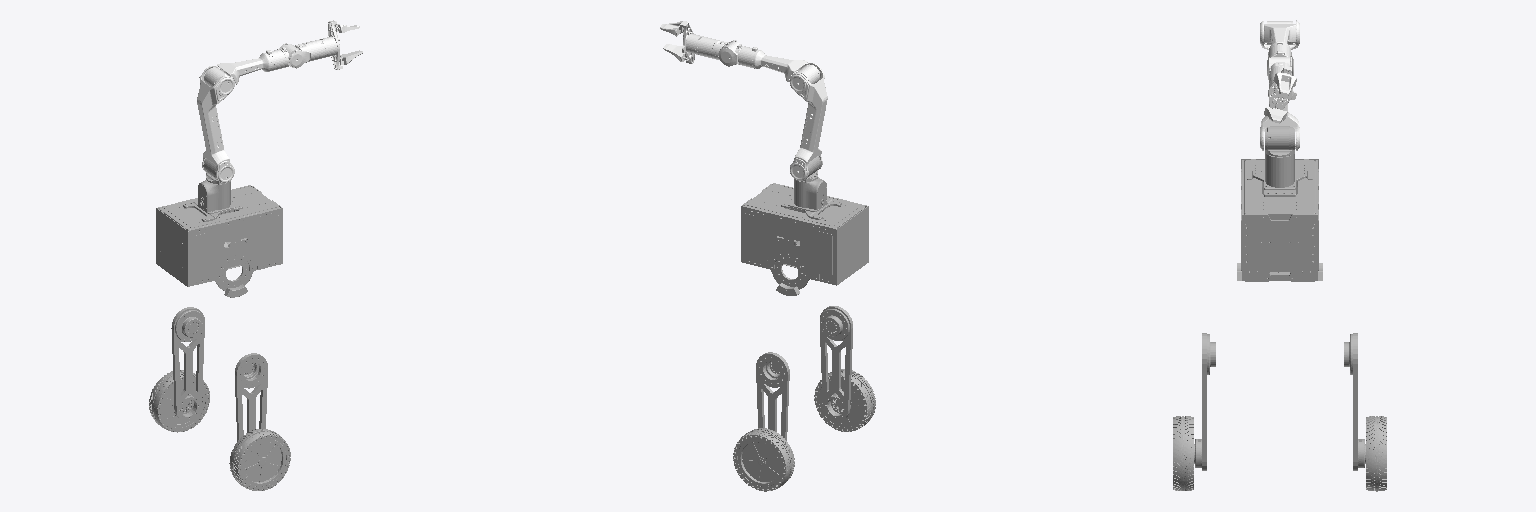
The robot description file, URDF, robot "wheeled_arm_v2":
<?xml version="1.0" encoding="utf-8"?>
<!-- This URDF was automatically created by SolidWorks to URDF Exporter! Originally created by Stephen Brawner (brawner@gmail.com) 
     Commit Version: 1.6.0-4-g7f85cfe  Build Version: 1.6.7995.38578
     For more information, please see http://wiki.ros.org/sw_urdf_exporter -->
<robot
  name="wheeled_arm_v2">
  <mujoco>
    <compiler 
      meshdir="/home/moujank/project/wheeled-leg-ws/modules/wheeled_mujoco/asset/wheeled_arm_v2/meshes/" 
      balanceinertia="true" 
      discardvisual="false" />
  </mujoco>
  <link name="dummy">
  </link>
  <joint name="dummy_joint" type="fixed">
    <parent link="dummy"/>
    <child link="base_link"/>
  </joint>
  <link
    name="base_link">
    <inertial>
      <origin
        xyz="-0.015398 0.0002546 0.065682"
        rpy="0 0 0" />
      <mass
        value="6.382" />
      <inertia
        ixx="0.562"
        ixy="0.019"
        ixz="0.12"
        iyy="0.583"
        iyz="-0.071"
        izz="0.134" />
    </inertial>
    <visual>
      <origin
        xyz="0 0 0"
        rpy="0 0 0" />
      <geometry>
        <mesh
          filename="package://wheeled_arm_v2/meshes/base_link.STL" />
      </geometry>
      <material
        name="">
        <color
          rgba="0.75294 0.75294 0.75294 1" />
      </material>
    </visual>
    <collision>
      <origin
        xyz="0 0 0"
        rpy="0 0 0" />
      <geometry>
        <mesh
          filename="package://wheeled_arm_v2/meshes/base_link.STL" />
      </geometry>
    </collision>
  </link>
  <link
    name="HipL">
    <inertial>
      <origin
        xyz="0.094322 -1.4155E-15 -0.015998"
        rpy="0 0 0" />
      <mass
        value="3.721" />
      <inertia
        ixx="0.279"
        ixy="-0.033"
        ixz="0.025"
        iyy="0.088"
        iyz="0.099"
        izz="0.214" />
    </inertial>
    <visual>
      <origin
        xyz="0 0 0"
        rpy="0 0 0" />
      <geometry>
        <mesh
          filename="package://wheeled_arm_v2/meshes/HipL.STL" />
      </geometry>
      <material
        name="">
        <color
          rgba="0.75294 0.75294 0.75294 1" />
      </material>
    </visual>
    <collision>
      <origin
        xyz="0 0 0"
        rpy="0 0 0" />
      <geometry>
        <mesh
          filename="package://wheeled_arm_v2/meshes/HipL.STL" />
      </geometry>
    </collision>
  </link>
  <joint
    name="HipL"
    type="revolute">
    <origin
      xyz="-0.000233492816984426 0.110014223674619 -0.017208771353604"
      rpy="1.5707963267949 1.5707963267949 0" />
    <parent
      link="base_link" />
    <child
      link="HipL" />
    <axis
      xyz="0 0 -1" />
    <limit
      lower="-3.14"
      upper="3.14"
      effort="120"
      velocity="0" />
  </joint>
  <link
    name="KneeL">
    <inertial>
      <origin
        xyz="0.10421 3.9205E-15 0.0277"
        rpy="0 0 0" />
      <mass
        value="0.7847" />
      <inertia
        ixx="0.173"
        ixy="-0.017"
        ixz="0.003"
        iyy="0.009"
        iyz="0.032"
        izz="0.169" />
    </inertial>
    <visual>
      <origin
        xyz="0 0 0"
        rpy="0 0 0" />
      <geometry>
        <mesh
          filename="package://wheeled_arm_v2/meshes/KneeL.STL" />
      </geometry>
      <material
        name="">
        <color
          rgba="0.75294 0.75294 0.75294 1" />
      </material>
    </visual>
    <collision>
      <origin
        xyz="0 0 0"
        rpy="0 0 0" />
      <geometry>
        <mesh
          filename="package://wheeled_arm_v2/meshes/KneeL.STL" />
      </geometry>
    </collision>
  </link>
  <joint
    name="KneeL"
    type="revolute">
    <origin
      xyz="0.281999999999997 0 -0.0467"
      rpy="3.14159265358979 0 0" />
    <parent
      link="HipL" />
    <child
      link="KneeL" />
    <axis
      xyz="0 0 -1" />
    <limit
      lower="-3.14"
      upper="3.14"
      effort="120"
      velocity="0" />
  </joint>
  <link
    name="HubL">
    <inertial>
      <origin
        xyz="1.3804E-05 -1.5091E-06 -0.02755"
        rpy="0 0 0" />
      <mass
        value="1.1563" />
      <inertia
        ixx="0.438"
        ixy="-0.034"
        ixz="0.002"
        iyy="0.007"
        iyz="0.028"
        izz="0.441" />
    </inertial>
    <visual>
      <origin
        xyz="0 0 0"
        rpy="0 0 0" />
      <geometry>
        <mesh
          filename="package://wheeled_arm_v2/meshes/HubL.STL" />
      </geometry>
      <material
        name="">
        <color
          rgba="0.75294 0.75294 0.75294 1" />
      </material>
    </visual>
    <collision>
      <origin
        xyz="0 0 0"
        rpy="0 0 0" />
      <geometry>
        <mesh
          filename="package://wheeled_arm_v2/meshes/HubL.STL" />
      </geometry>
    </collision>
  </link>
  <joint
    name="HubL"
    type="continuous">
    <origin
      xyz="0.26997906834025 0 0.0519999999999905"
      rpy="-3.14159265358979 0 0" />
    <parent
      link="KneeL" />
    <child
      link="HubL" />
    <axis
      xyz="0 0 -1" />
    <limit
      effort="17"
      velocity="115" />
  </joint>
  <link
    name="HipR">
    <inertial>
      <origin
        xyz="0.094322 -1.4155E-15 -0.015998"
        rpy="0 0 0" />
      <mass
        value="3.721" />
      <inertia
        ixx="0.83"
        ixy="-0.033"
        ixz="0.073"
        iyy="0.639"
        iyz="0.287"
        izz="0.214" />
    </inertial>
    <visual>
      <origin
        xyz="0 0 0"
        rpy="0 0 0" />
      <geometry>
        <mesh
          filename="package://wheeled_arm_v2/meshes/HipR.STL" />
      </geometry>
      <material
        name="">
        <color
          rgba="0.75294 0.75294 0.75294 1" />
      </material>
    </visual>
    <collision>
      <origin
        xyz="0 0 0"
        rpy="0 0 0" />
      <geometry>
        <mesh
          filename="package://wheeled_arm_v2/meshes/HipR.STL" />
      </geometry>
    </collision>
  </link>
  <joint
    name="HipR"
    type="revolute">
    <origin
      xyz="-0.00023349 -0.10999 -0.017209"
      rpy="-1.5708 1.5708 0" />
    <parent
      link="base_link" />
    <child
      link="HipR" />
    <axis
      xyz="0 0 -1" />
    <limit
      lower="-3.14"
      upper="3.14"
      effort="120"
      velocity="0" />
  </joint>
  <link
    name="KneeR">
    <inertial>
      <origin
        xyz="0.10421 -4.9523E-14 0.0277"
        rpy="0 0 0" />
      <mass
        value="0.7847" />
      <inertia
        ixx="0.333"
        ixy="-0.017"
        ixz="0.017"
        iyy="0.169"
        iyz="0.162"
        izz="0.169" />
    </inertial>
    <visual>
      <origin
        xyz="0 0 0"
        rpy="0 0 0" />
      <geometry>
        <mesh
          filename="package://wheeled_arm_v2/meshes/KneeR.STL" />
      </geometry>
      <material
        name="">
        <color
          rgba="0.75294 0.75294 0.75294 1" />
      </material>
    </visual>
    <collision>
      <origin
        xyz="0 0 0"
        rpy="0 0 0" />
      <geometry>
        <mesh
          filename="package://wheeled_arm_v2/meshes/KneeR.STL" />
      </geometry>
    </collision>
  </link>
  <joint
    name="KneeR"
    type="revolute">
    <origin
      xyz="0.281999999999997 0 -0.0467"
      rpy="3.14159265358979 0 0" />
    <parent
      link="HipR" />
    <child
      link="KneeR" />
    <axis
      xyz="0 0 -1" />
    <limit
      lower="-3.14"
      upper="3.14"
      effort="120"
      velocity="0" />
  </joint>
  <link
    name="HubR">
    <inertial>
      <origin
        xyz="1.3804E-05 -1.5094E-06 -0.02755"
        rpy="0 0 0" />
      <mass
        value="1.1563" />
      <inertia
        ixx="0.74"
        ixy="-0.034"
        ixz="0.028"
        iyy="0.309"
        iyz="0.363"
        izz="0.441" />
    </inertial>
    <visual>
      <origin
        xyz="0 0 0"
        rpy="0 0 0" />
      <geometry>
        <mesh
          filename="package://wheeled_arm_v2/meshes/HubR.STL" />
      </geometry>
      <material
        name="">
        <color
          rgba="0.75294 0.75294 0.75294 1" />
      </material>
    </visual>
    <collision>
      <origin
        xyz="0 0 0"
        rpy="0 0 0" />
      <geometry>
        <mesh
          filename="package://wheeled_arm_v2/meshes/HubR.STL" />
      </geometry>
    </collision>
  </link>
  <joint
    name="HubR"
    type="continuous">
    <origin
      xyz="0.269979068340252 0 0.0519999999999931"
      rpy="-3.14159265358979 0 0" />
    <parent
      link="KneeR" />
    <child
      link="HubR" />
    <axis
      xyz="0 0 -1" />
    <limit
      effort="17"
      velocity="115" />
  </joint>
  <link
    name="Arm_R">
    <inertial>
      <origin
        xyz="-0.015398 0.0002546 0.065682"
        rpy="0 0 0" />
      <mass
        value="0.49" />
      <inertia
        ixx="0.562"
        ixy="0.019"
        ixz="0.12"
        iyy="0.583"
        iyz="-0.071"
        izz="0.134" />
    </inertial>
    <visual>
      <origin
        xyz="0 0 0"
        rpy="0 0 0" />
      <geometry>
        <mesh
          filename="package://wheeled_arm_v2/meshes/Arm_R.STL" />
      </geometry>
      <material
        name="">
        <color
          rgba="0.75294 0.75294 0.75294 1" />
      </material>
    </visual>
    <collision>
      <origin
        xyz="0 0 0"
        rpy="0 0 0" />
      <geometry>
        <mesh
          filename="package://wheeled_arm_v2/meshes/Arm_R.STL" />
      </geometry>
    </collision>
  </link>
  <joint
    name="Arm_R"
    type="revolute">
    <origin
      xyz="-0.012349 1.4546E-05 0.25079"
      rpy="0 0 0" />
    <parent
      link="base_link" />
    <child
      link="Arm_R" />
    <axis
      xyz="0 0 1" />
    <limit
      lower="-3.14"
      upper="3.14"
      effort="27"
      velocity="0" />
  </joint>
  <link
    name="Arm_Y1">
    <inertial>
      <origin
        xyz="0.19076 -0.011655 -0.032116"
        rpy="0 0 0" />
      <mass
        value="0.958" />
      <inertia
        ixx="0.257"
        ixy="0.027"
        ixz="0.017"
        iyy="0.077"
        iyz="-0.115"
        izz="0.188" />
    </inertial>
    <visual>
      <origin
        xyz="0 0 0"
        rpy="0 0 0" />
      <geometry>
        <mesh
          filename="package://wheeled_arm_v2/meshes/Arm_Y1.STL" />
      </geometry>
      <material
        name="">
        <color
          rgba="1 1 1 1" />
      </material>
    </visual>
    <collision>
      <origin
        xyz="0 0 0"
        rpy="0 0 0" />
      <geometry>
        <mesh
          filename="package://wheeled_arm_v2/meshes/Arm_Y1.STL" />
      </geometry>
    </collision>
  </link>
  <joint
    name="Arm_Y1"
    type="revolute">
    <origin
      xyz="0.0071154047696932 0.0327496781044176 0.0370000000000002"
      rpy="-1.57079632679491 -1.5707963267949 0" />
    <parent
      link="Arm_R" />
    <child
      link="Arm_Y1" />
    <axis
      xyz="0 0 1" />
    <limit
      lower="-1.57"
      upper="1.57"
      effort="27"
      velocity="0" />
  </joint>
  <link
    name="Arm_Y2">
    <inertial>
      <origin
        xyz="0.16155 -0.021893 -0.032752"
        rpy="0 0 0" />
      <mass
        value="0.738" />
      <inertia
        ixx="0.281"
        ixy="-0.044"
        ixz="-0.022"
        iyy="0.065"
        iyz="-0.112"
        izz="0.234" />
    </inertial>
    <visual>
      <origin
        xyz="0 0 0"
        rpy="0 0 0" />
      <geometry>
        <mesh
          filename="package://wheeled_arm_v2/meshes/Arm_Y2.STL" />
      </geometry>
      <material
        name="">
        <color
          rgba="1 1 1 1" />
      </material>
    </visual>
    <collision>
      <origin
        xyz="0 0 0"
        rpy="0 0 0" />
      <geometry>
        <mesh
          filename="package://wheeled_arm_v2/meshes/Arm_Y2.STL" />
      </geometry>
    </collision>
  </link>
  <joint
    name="Arm_Y2"
    type="revolute">
    <origin
      xyz="0.285029571976847 0 0"
      rpy="0 0 1.5707963267949" />
    <parent
      link="Arm_Y1" />
    <child
      link="Arm_Y2" />
    <axis
      xyz="0 0 1" />
    <limit
      lower="-1.57"
      upper="1.57"
      effort="27"
      velocity="0" />
  </joint>
  <link
    name="Arm_P1">
    <inertial>
      <origin
        xyz="0.00016825 -0.0028362 0.031075"
        rpy="0 0 0" />
      <mass
        value="0.632" />
      <inertia
        ixx="0.24"
        ixy="-0.067"
        ixz="-0.033"
        iyy="0.071"
        iyz="-0.095"
        izz="0.216" />
    </inertial>
    <visual>
      <origin
        xyz="0 0 0"
        rpy="0 0 0" />
      <geometry>
        <mesh
          filename="package://wheeled_arm_v2/meshes/Arm_P1.STL" />
      </geometry>
      <material
        name="">
        <color
          rgba="1 1 1 1" />
      </material>
    </visual>
    <collision>
      <origin
        xyz="0 0 0"
        rpy="0 0 0" />
      <geometry>
        <mesh
          filename="package://wheeled_arm_v2/meshes/Arm_P1.STL" />
      </geometry>
    </collision>
  </link>
  <joint
    name="Arm_P1"
    type="revolute">
    <origin
      xyz="0.214751946919796 -0.0219839705141729 -0.0327499999999978"
      rpy="-1.57079632679489 0 -1.5707963267949" />
    <parent
      link="Arm_Y2" />
    <child
      link="Arm_P1" />
    <axis
      xyz="0 0 -1" />
    <limit
      lower="-1.57"
      upper="1.57"
      effort="27"
      velocity="0" />
  </joint>
  <link
    name="Arm_Y3">
    <inertial>
      <origin
        xyz="0.057026 1.4351E-05 -0.020402"
        rpy="0 0 0" />
      <mass
        value="0.637" />
      <inertia
        ixx="0.243"
        ixy="-0.09"
        ixz="-0.045"
        iyy="0.091"
        iyz="-0.098"
        izz="0.235" />
    </inertial>
    <visual>
      <origin
        xyz="0 0 0"
        rpy="0 0 0" />
      <geometry>
        <mesh
          filename="package://wheeled_arm_v2/meshes/Arm_Y3.STL" />
      </geometry>
      <material
        name="">
        <color
          rgba="1 1 1 1" />
      </material>
    </visual>
    <collision>
      <origin
        xyz="0 0 0"
        rpy="0 0 0" />
      <geometry>
        <mesh
          filename="package://wheeled_arm_v2/meshes/Arm_Y3.STL" />
      </geometry>
    </collision>
  </link>
  <joint
    name="Arm_Y3"
    type="revolute">
    <origin
      xyz="0 0.0224999999999993 0.0359999999999988"
      rpy="-1.5707963267949 -1.5707963267949 0" />
    <parent
      link="Arm_P1" />
    <child
      link="Arm_Y3" />
    <axis
      xyz="0 0 -1" />
    <limit
      lower="-1.57"
      upper="1.57"
      effort="27"
      velocity="0" />
  </joint>
  <link
    name="Arm_P2">
    <inertial>
      <origin
        xyz="-8.6993E-05 -0.00012256 0.051431"
        rpy="0 0 0" />
      <mass
        value="0.5" />
      <inertia
        ixx="0.19"
        ixy="-0.094"
        ixz="-0.047"
        iyy="0.096"
        iyz="-0.076"
        izz="0.21" />
    </inertial>
    <visual>
      <origin
        xyz="0 0 0"
        rpy="0 0 0" />
      <geometry>
        <mesh
          filename="package://wheeled_arm_v2/meshes/Arm_P2.STL" />
      </geometry>
      <material
        name="">
        <color
          rgba="1 1 1 1" />
      </material>
    </visual>
    <collision>
      <origin
        xyz="0 0 0"
        rpy="0 0 0" />
      <geometry>
        <mesh
          filename="package://wheeled_arm_v2/meshes/Arm_P2.STL" />
      </geometry>
    </collision>
  </link>
  <joint
    name="Arm_P2"
    type="revolute">
    <origin
      xyz="0.09100000000001 0 -0.0239165214861999"
      rpy="1.57079632679491 0 1.5707963267949" />
    <parent
      link="Arm_Y3" />
    <child
      link="Arm_P2" />
    <axis
      xyz="0 0 -1" />
    <limit
      lower="-1.57"
      upper="1.57"
      effort="27"
      velocity="0" />
  </joint>
</robot>

--- Facts derived from the render (not from the file) ---
3 views of the same robot in one strip: view 1: azimuth 30°, elevation 25°; view 2: azimuth 150°, elevation 25°; view 3: azimuth 270°, elevation 25° (orthographic).
Robot: wheeled_arm_v2 — 14 links, 13 joints (10 revolute, 2 continuous, 1 fixed); root link dummy; default pose: all joints at 0.
Visible links, largest first — view 1: base_link, HubR, KneeL, Arm_Y1, KneeR, HubL, Arm_Y2, Arm_P2, Arm_Y3; view 2: base_link, HubL, KneeR, Arm_Y1, KneeL, HubR, Arm_Y2, Arm_P2; view 3: base_link, HubL, HubR, Arm_P2, KneeL, KneeR, Arm_R, Arm_Y1, Arm_Y2.
Boxes of the visible links, left/top/right/bottom form: base_link: left=156, top=180, right=282, bottom=297; HubR: left=229, top=429, right=290, bottom=490; KneeL: left=171, top=307, right=204, bottom=421; Arm_Y1: left=197, top=66, right=234, bottom=182; KneeR: left=235, top=353, right=267, bottom=441; HubL: left=149, top=370, right=209, bottom=432; Arm_Y2: left=217, top=49, right=285, bottom=84; Arm_P2: left=317, top=20, right=362, bottom=69; Arm_Y3: left=289, top=40, right=322, bottom=68; base_link: left=741, top=177, right=868, bottom=295; HubL: left=733, top=428, right=794, bottom=491; KneeR: left=820, top=306, right=852, bottom=420; Arm_Y1: left=789, top=63, right=827, bottom=180; KneeL: left=756, top=352, right=789, bottom=440; HubR: left=814, top=369, right=875, bottom=431; Arm_Y2: left=738, top=46, right=807, bottom=81; Arm_P2: left=660, top=21, right=705, bottom=63; base_link: left=1237, top=154, right=1322, bottom=281; HubL: left=1365, top=416, right=1386, bottom=491; HubR: left=1173, top=416, right=1194, bottom=490; Arm_P2: left=1264, top=66, right=1296, bottom=123; KneeL: left=1344, top=333, right=1364, bottom=470; KneeR: left=1195, top=333, right=1215, bottom=470; Arm_R: left=1265, top=126, right=1295, bottom=156; Arm_Y1: left=1260, top=20, right=1299, bottom=150; Arm_Y2: left=1264, top=24, right=1295, bottom=57.
Bounding box of the posed robot: 0.6423 × 0.5286 × 1.33 m (x, y, z).
11 mesh visuals loaded from 13 distinct referenced files (11 binary STL); not drawn: 2 (reference not matched to a file when rendering).
